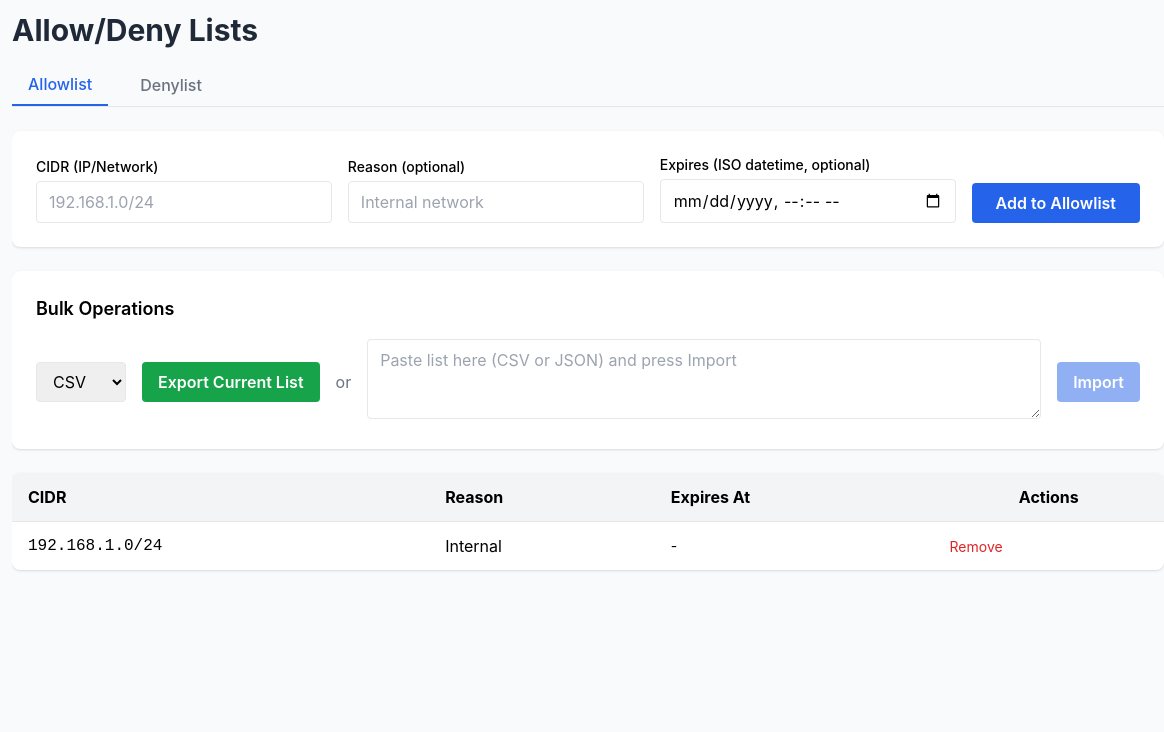
Test case: AllowDenyLists Component › switches tabs when clicked
Click the button "Denylist" at (171, 89), box [124,72,218,106]
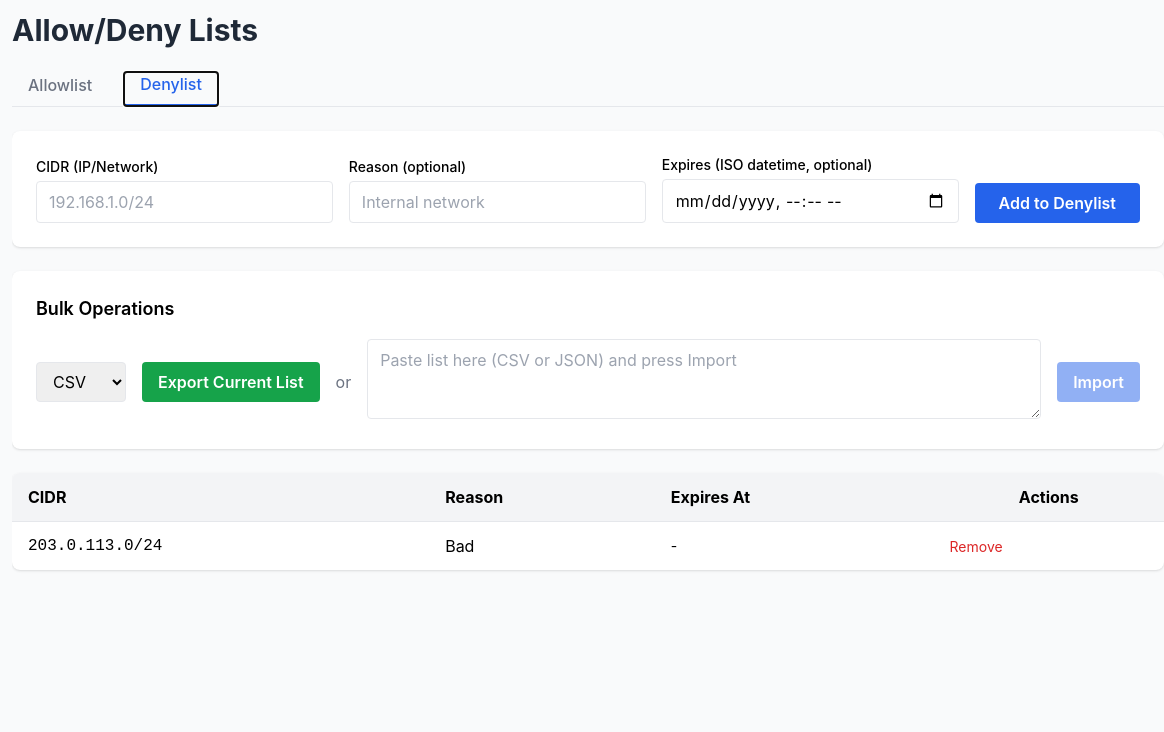
Expected: the text "203.0.113.0/24" is shown, [12,522,429,570]
